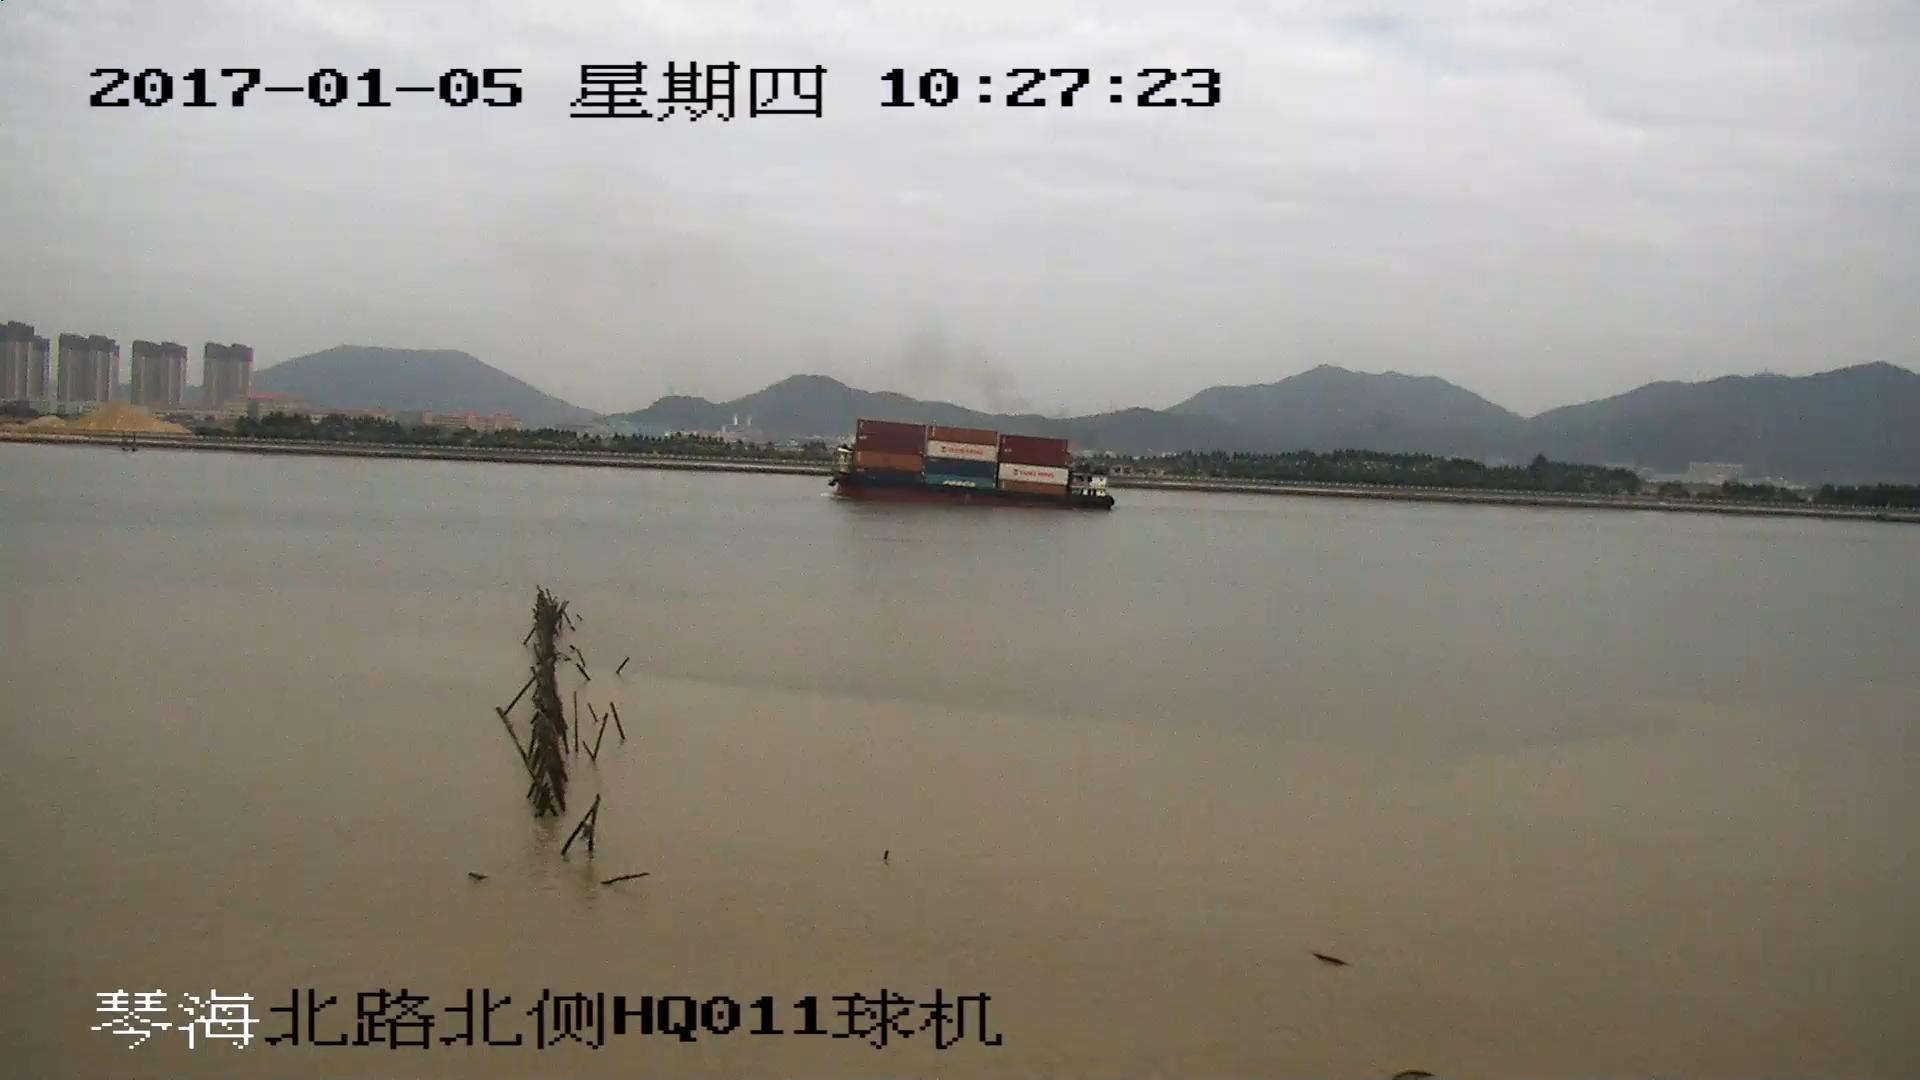Ship: (823, 419, 1113, 514)
